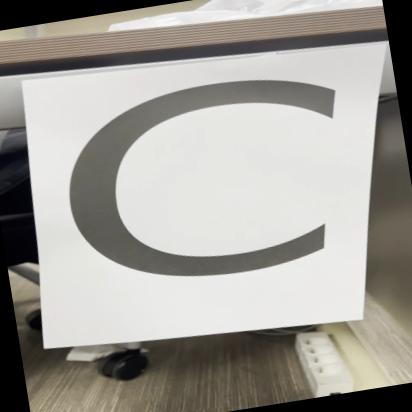seat: (17, 31, 385, 367)
